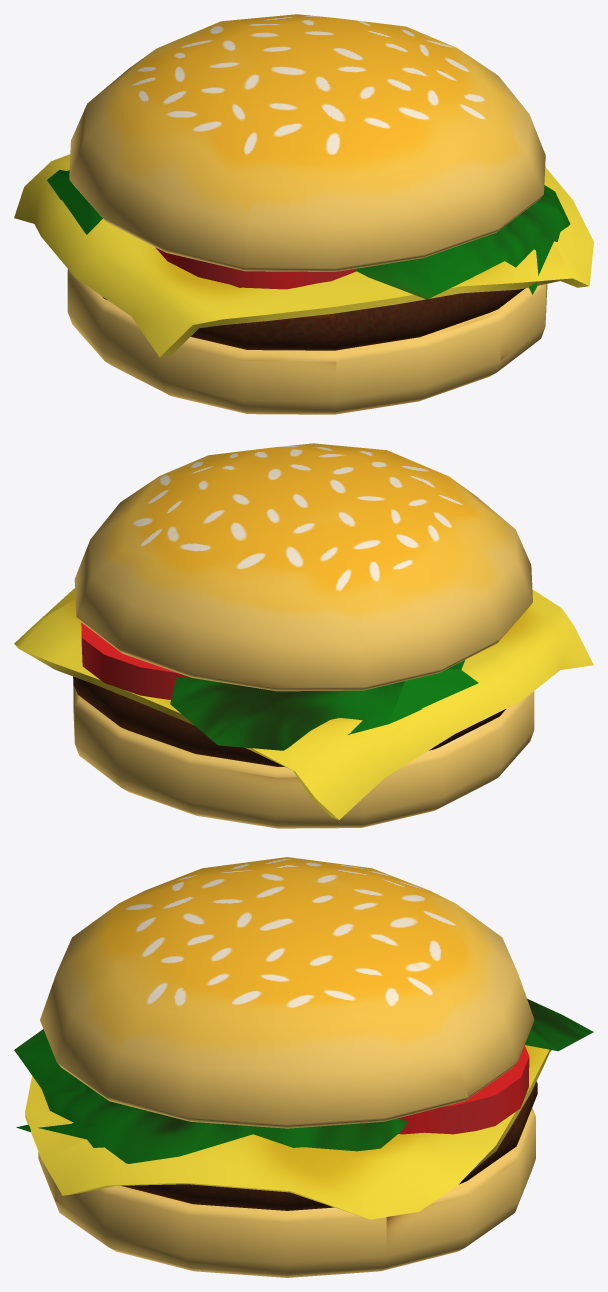
Rendered from Burger004.FBX.
3 renders of one model, top to bottom at view 1: azimuth 30°, elevation 25°; view 2: azimuth 150°, elevation 25°; view 3: azimuth 270°, elevation 25°, orthographic. The views are drawn at different scales.
Visible parts, largest first — view 1: Burger004; view 2: Burger004; view 3: Burger004.
Boxes of the visible parts, left/top/right/bottom form: Burger004: left=14, top=14, right=593, bottom=414; Burger004: left=14, top=443, right=593, bottom=828; Burger004: left=14, top=857, right=593, bottom=1277.
Size of the model in its own units: 5.05 by 2.7 by 5.12.
